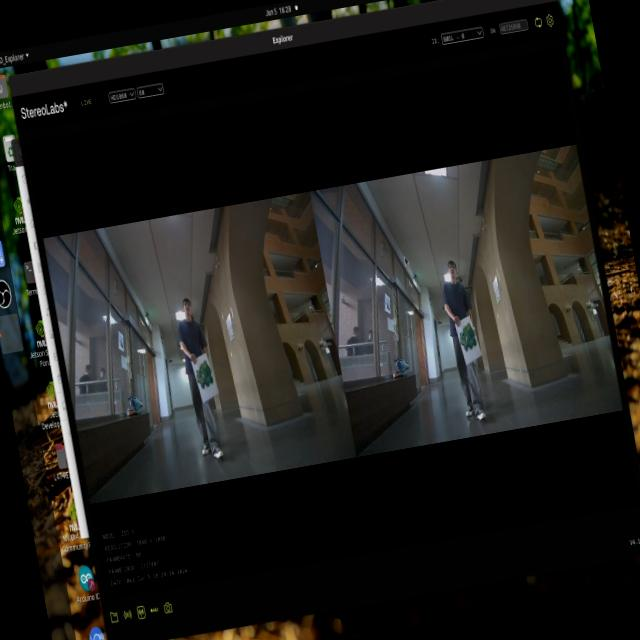green: (186, 348, 220, 402), (453, 312, 482, 358)
